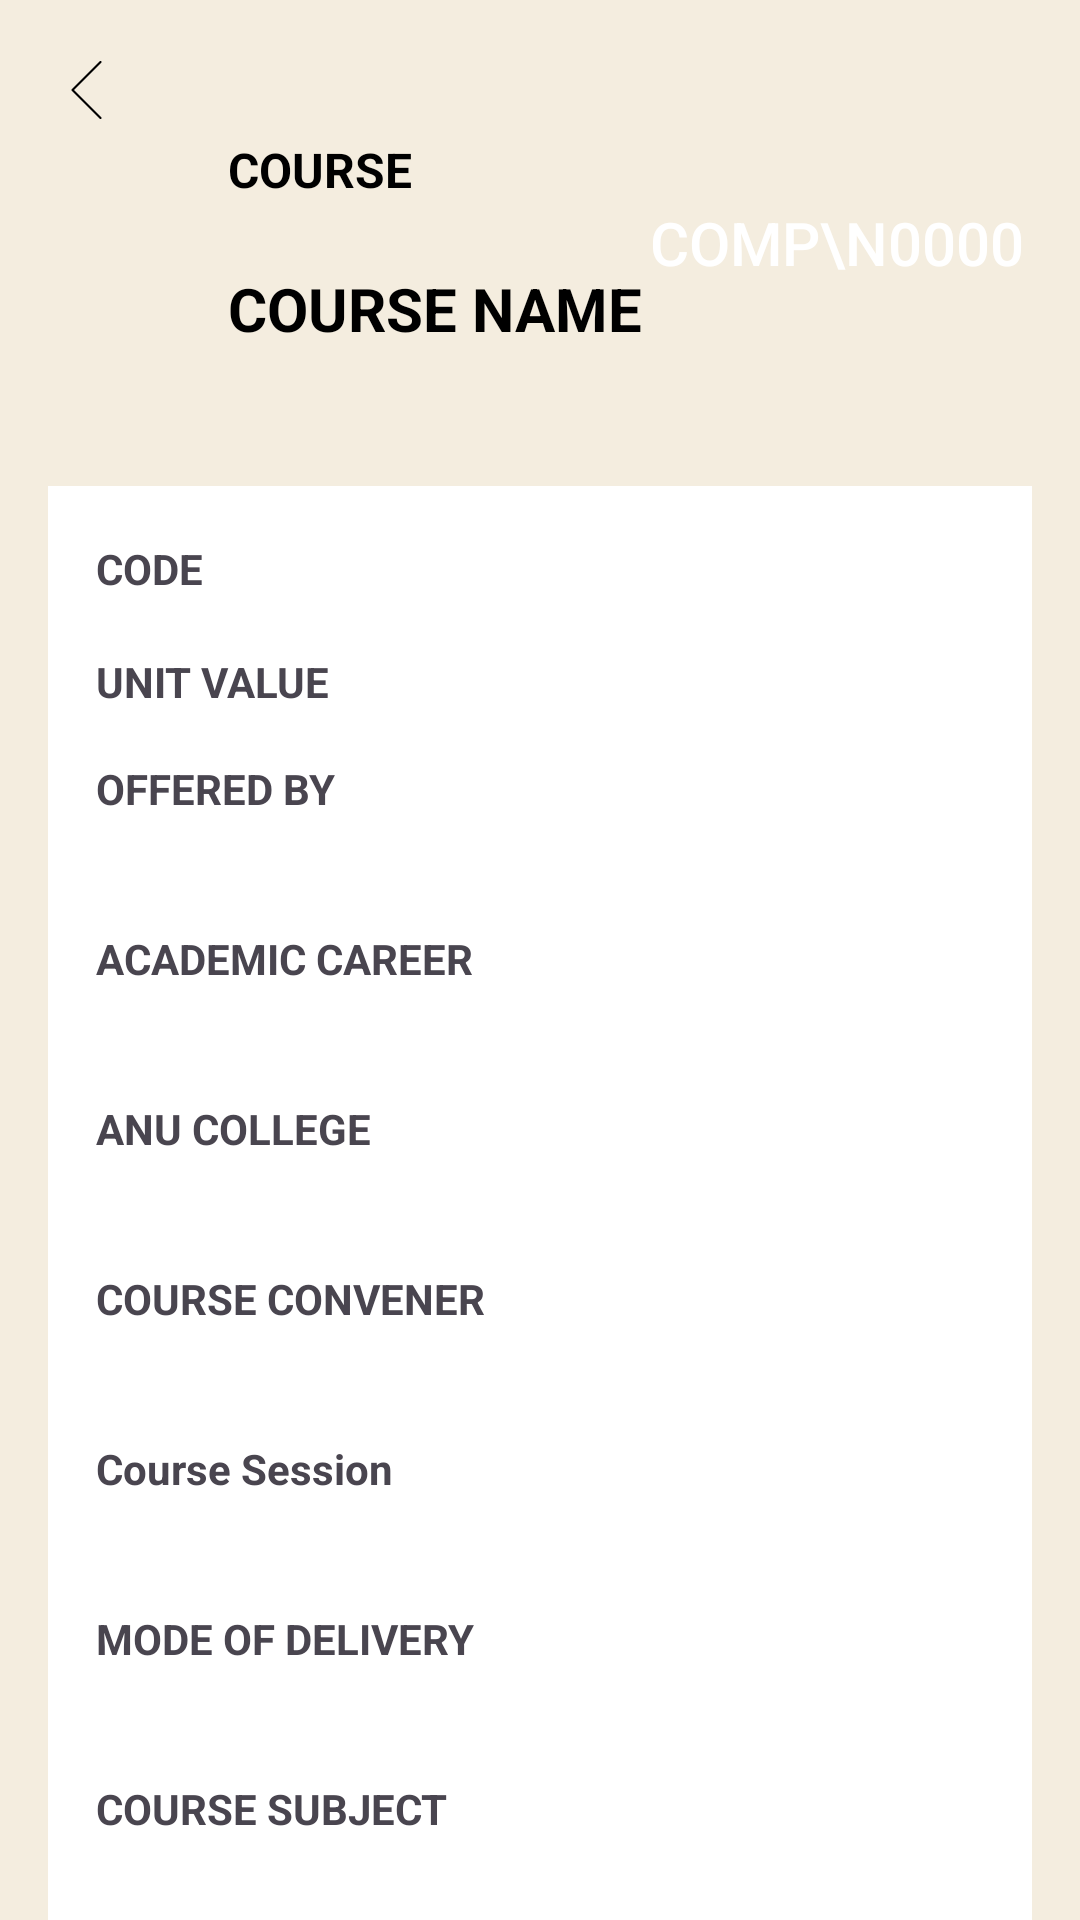

Point at icon controls on the screen. Image size 1080 x 1920, points as [x,y].
Back to Main Page: [86,90]
